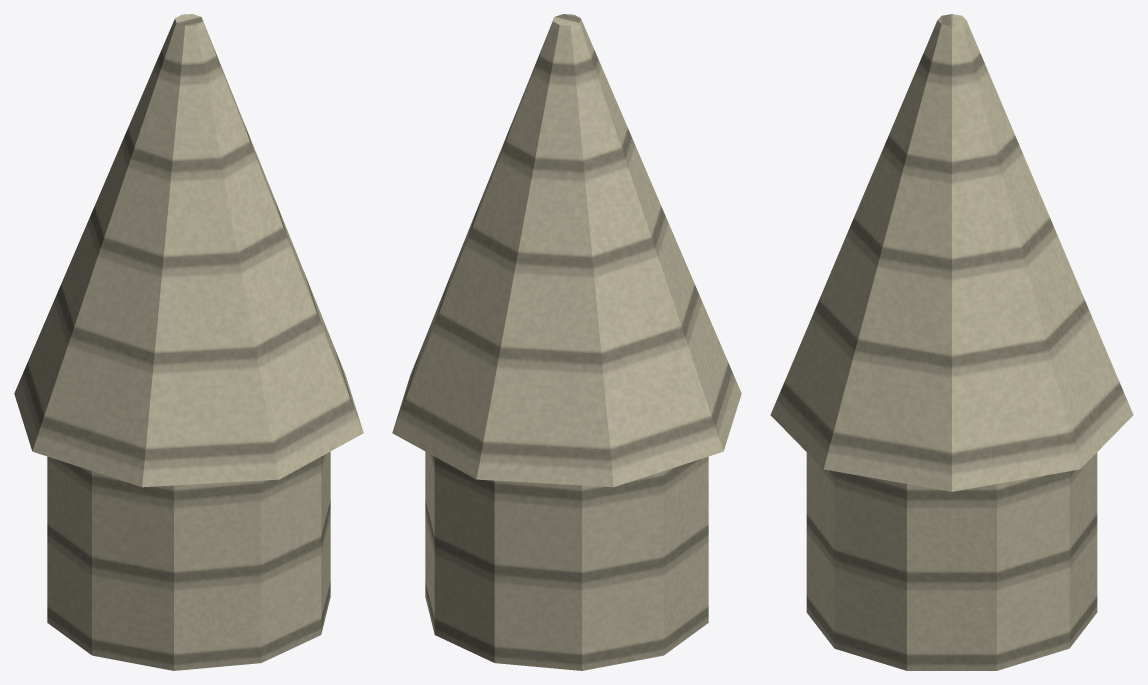
Rendered from potted_plant.glb.
The picture shows the model from 3 angles, left to right: view 1: azimuth 30°, elevation 25°; view 2: azimuth 150°, elevation 25°; view 3: azimuth 270°, elevation 25°; orthographic projection.
Parts seen in each view (by area): view 1: potted_plant-col; view 2: potted_plant-col; view 3: potted_plant-col.
Part boxes in pixels (bbox=[...]): potted_plant-col: bbox=[14, 14, 363, 670]; potted_plant-col: bbox=[392, 14, 741, 670]; potted_plant-col: bbox=[770, 14, 1133, 670].
Bounding box in the file's own units: 0.5 × 0.9 × 0.5.
Materials: 1 (1 with a texture image).
